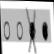correct: (41, 20, 49, 42)
not correct: (26, 5, 37, 54)
